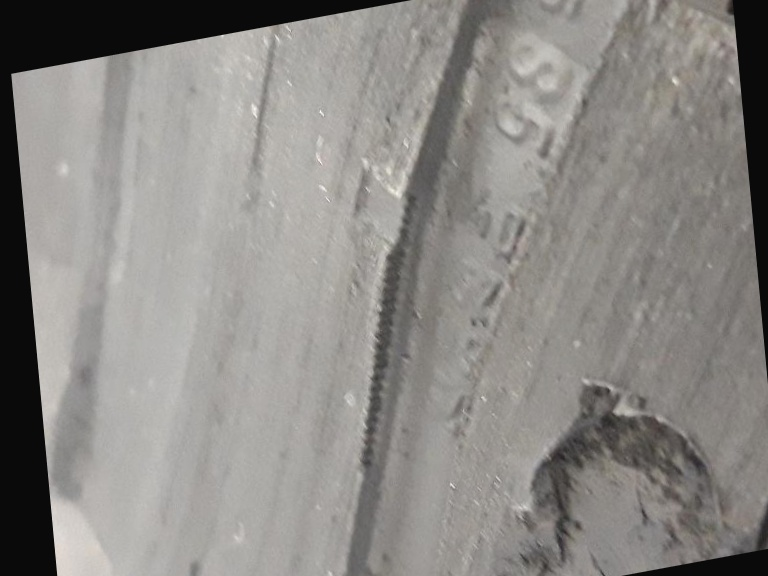temoin:0: (331, 143, 435, 281)
